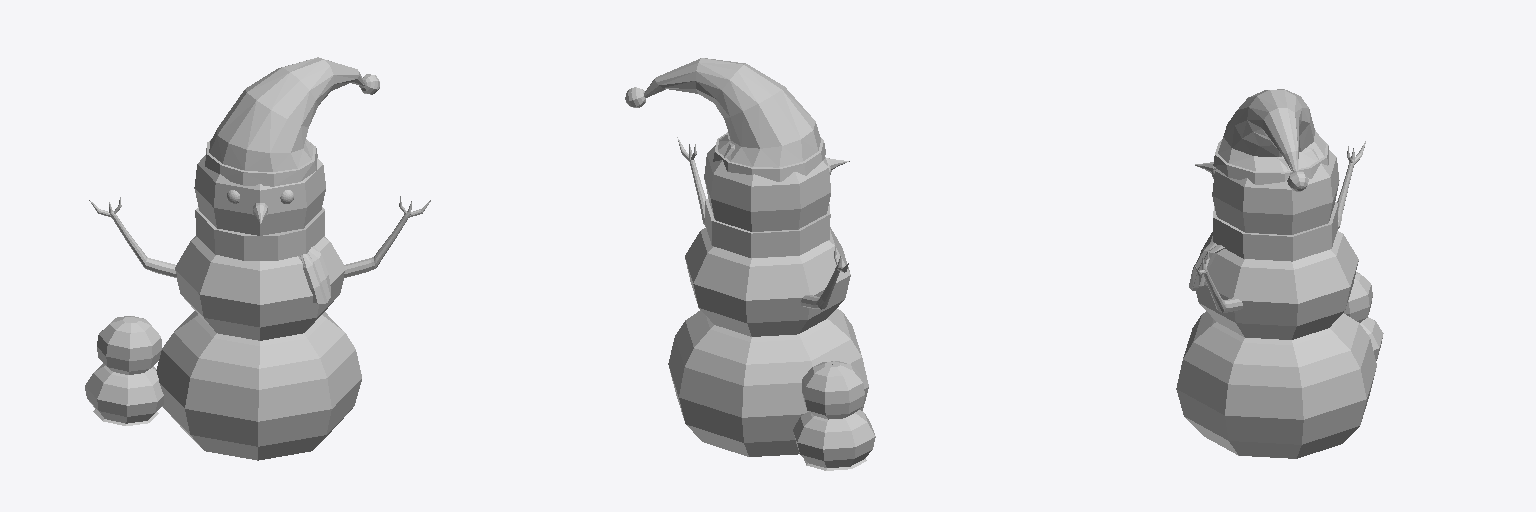
Rendered from SnowmanT.obj.
3 views of the same model, side by side, from view 1: azimuth 30°, elevation 25°; view 2: azimuth 150°, elevation 25°; view 3: azimuth 270°, elevation 25° (orthographic).
Parts seen in each view (by area): view 1: SnowmanT:pSphere5snownman, SnowmanT:cap, SnowmanT:pSphere5small_snow, SnowmanT:beltpolySurface7pSphere5, SnowmanT:group2hands, SnowmanT:polySurface7pSphere5belt_part1; view 2: SnowmanT:pSphere5snownman, SnowmanT:cap, SnowmanT:pSphere5small_snow, SnowmanT:beltpolySurface7pSphere5, SnowmanT:group2hands; view 3: SnowmanT:pSphere5snownman, SnowmanT:cap, SnowmanT:beltpolySurface7pSphere5, SnowmanT:pSphere5small_snow, SnowmanT:group2hands, SnowmanT:polySurface7pSphere5belt_part1.
Part boxes in pixels (x1,y1,x2,y2): SnowmanT:pSphere5snownman: (156,155,361,460); SnowmanT:cap: (205,57,364,186); SnowmanT:pSphere5small_snow: (85,316,163,425); SnowmanT:beltpolySurface7pSphere5: (195,207,324,260); SnowmanT:group2hands: (109,201,411,277); SnowmanT:polySurface7pSphere5belt_part1: (298,246,330,303); SnowmanT:pSphere5snownman: (668,133,868,456); SnowmanT:cap: (644,58,825,181); SnowmanT:pSphere5small_snow: (793,361,875,470); SnowmanT:beltpolySurface7pSphere5: (705,199,830,257); SnowmanT:group2hands: (689,144,841,309); SnowmanT:pSphere5snownman: (1176,148,1376,458); SnowmanT:cap: (1213,89,1328,184); SnowmanT:beltpolySurface7pSphere5: (1213,202,1338,261); SnowmanT:pSphere5small_snow: (1344,272,1383,360); SnowmanT:group2hands: (1202,148,1354,312); SnowmanT:polySurface7pSphere5belt_part1: (1189,241,1224,290).
Bounding box in the file's own units: 7.34 × 9.52 × 4.95.